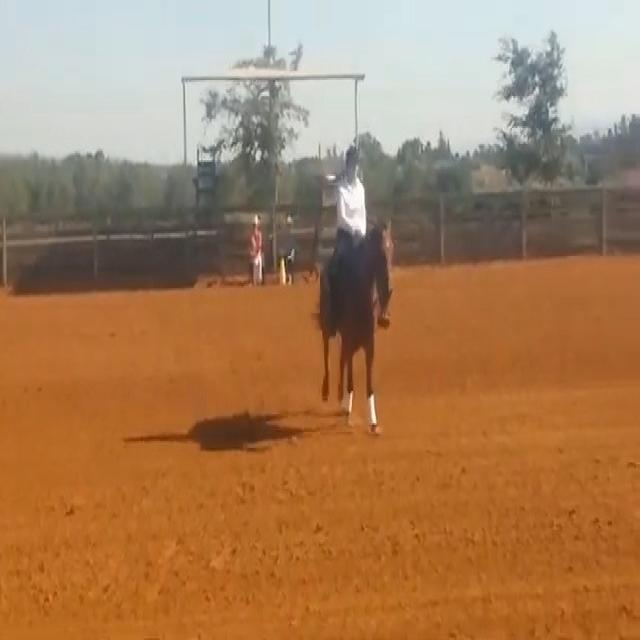horse: (315, 215, 395, 436)
